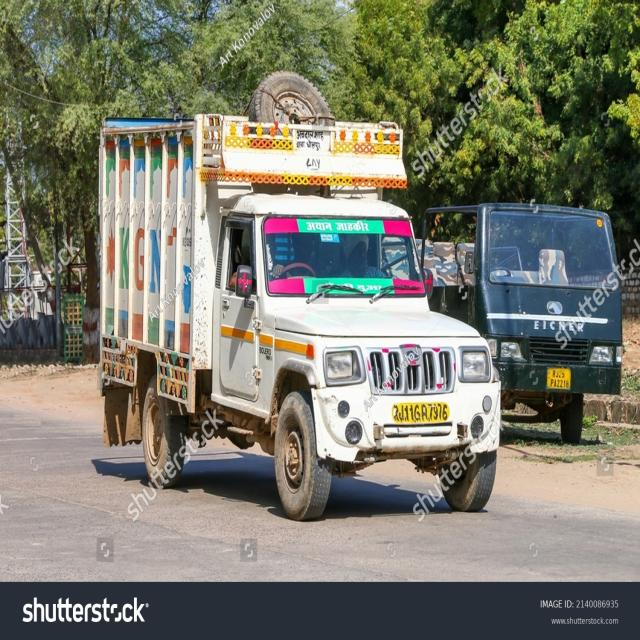Vehicles: (92, 68, 506, 534), (419, 166, 632, 440)
